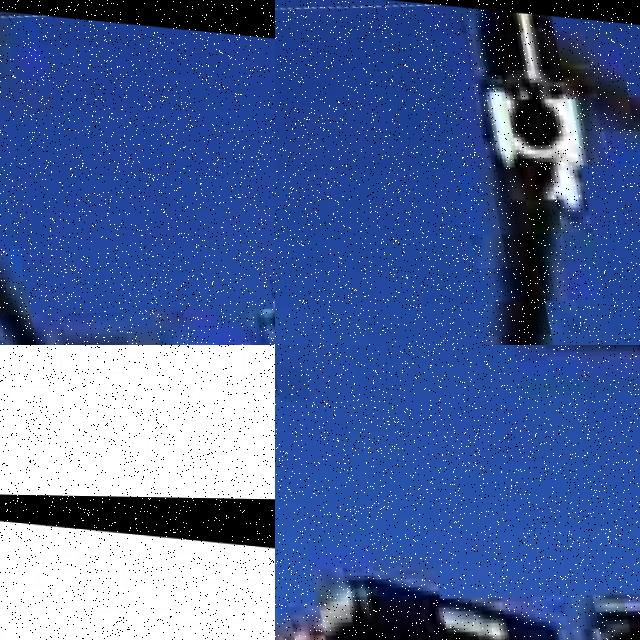drone: (275, 0, 640, 345), (275, 345, 640, 640), (0, 0, 275, 345), (0, 488, 275, 640)
